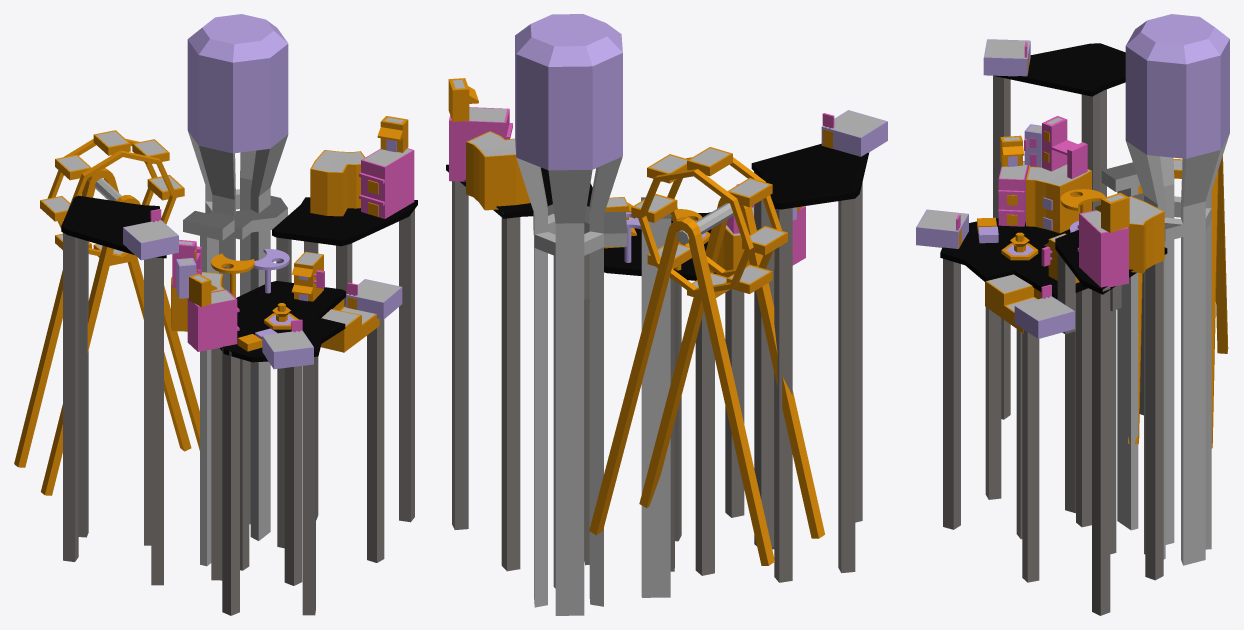
The model's file is TNRM_SM_Location01_v01.fbx.
The picture shows the model from 3 angles, left to right: view 1: azimuth 30°, elevation 25°; view 2: azimuth 150°, elevation 25°; view 3: azimuth 270°, elevation 25°; orthographic projection. The views are drawn at different scales.
Parts seen in each view (by area): view 1: Cylinder.001, Cylinder.004, Cylinder.002, Cylinder.003, Cylinder.005, Cylinder.013, Cylinder.006, Cylinder.012, Cylinder.007; view 2: Cylinder.001, Cylinder.004, Cylinder.005, Cylinder.013, Cylinder.012, Cylinder.011, Cylinder.007, Cylinder.006; view 3: Cylinder.001, Cylinder.002.
Part boxes in pixels (bbox=[...]): Cylinder.001: bbox=[14, 14, 417, 615]; Cylinder.004: bbox=[47, 138, 177, 261]; Cylinder.002: bbox=[211, 253, 254, 297]; Cylinder.003: bbox=[253, 249, 289, 293]; Cylinder.005: bbox=[93, 130, 130, 155]; Cylinder.013: bbox=[55, 154, 91, 180]; Cylinder.006: bbox=[132, 139, 169, 164]; Cylinder.012: bbox=[40, 196, 70, 221]; Cylinder.007: bbox=[147, 174, 184, 200]; Cylinder.001: bbox=[446, 14, 887, 615]; Cylinder.004: bbox=[637, 157, 781, 295]; Cylinder.005: bbox=[687, 147, 732, 176]; Cylinder.013: bbox=[727, 178, 772, 207]; Cylinder.012: bbox=[742, 226, 787, 255]; Cylinder.011: bbox=[726, 264, 772, 293]; Cylinder.007: bbox=[631, 193, 677, 222]; Cylinder.006: bbox=[647, 154, 688, 183]; Cylinder.001: bbox=[916, 14, 1229, 615]; Cylinder.002: bbox=[1060, 189, 1105, 212].
Bounding box in the file's own units: 6614 × 8853 × 4824.
